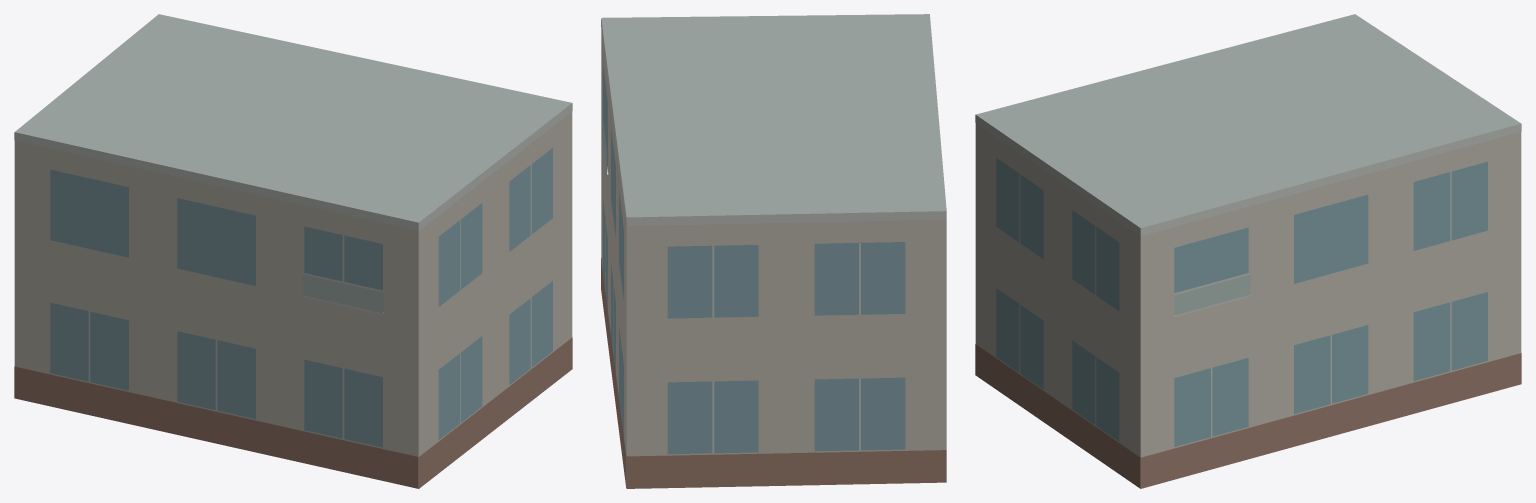
Rendered from survey-upis-32760940.glb.
The picture shows the model from 3 angles, left to right: view 1: azimuth 30°, elevation 25°; view 2: azimuth 150°, elevation 25°; view 3: azimuth 270°, elevation 25°; orthographic projection. The views are drawn at different scales.
Visible parts, largest first — view 1: survey-upis-32760940.tmp; view 2: survey-upis-32760940.tmp; view 3: survey-upis-32760940.tmp.
Boxes of the visible parts, box(x1,y1,x2,y2) form: survey-upis-32760940.tmp: box(14, 14, 572, 488); survey-upis-32760940.tmp: box(601, 14, 946, 488); survey-upis-32760940.tmp: box(975, 14, 1521, 488).
Size of the model in its own units: 13.76 by 7.8 by 14.81.
